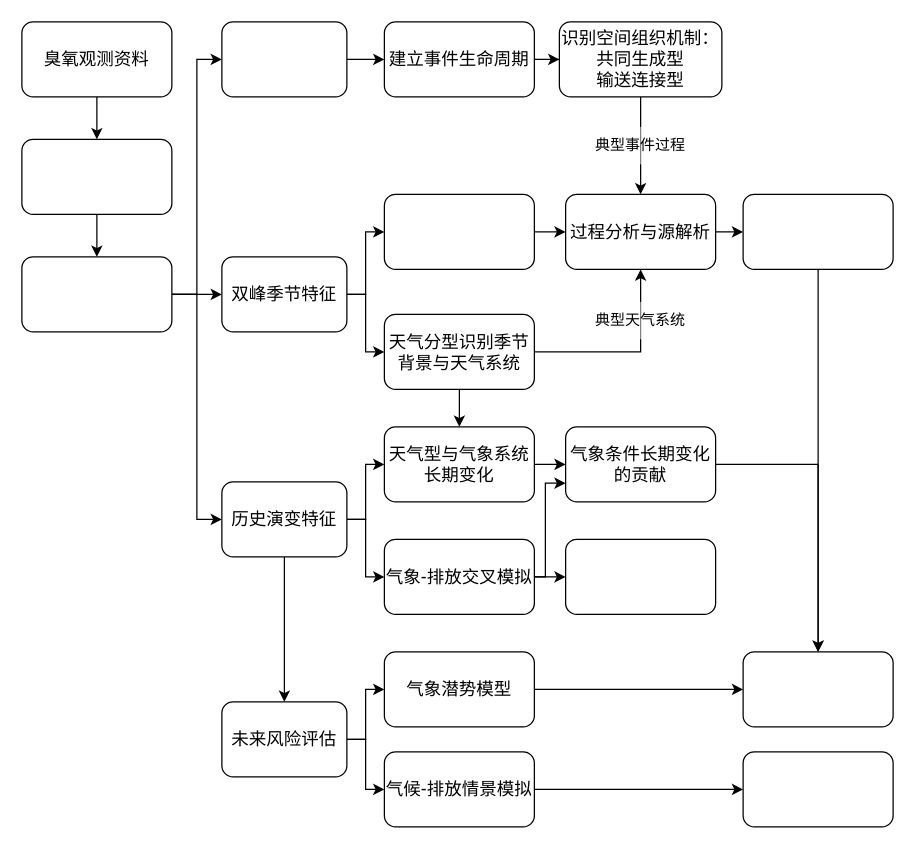
The diagram is 915 pixels wide and 849 high, and some of its shapes have lost their labels. Each missing label, with the centre of its shape:
WRF-Chem数值模拟: pixel 458 231
事件属性时空属性: pixel 96 294
事件形成机制: pixel 817 231
人为排放长期变化的贡献: pixel 640 576
大范围臭氧污染数据库: pixel 96 176
空间演变过程: pixel 284 59
评估未来变化的综合风险: pixel 817 789
评估未来气象条件变化导致的风险: pixel 817 689
